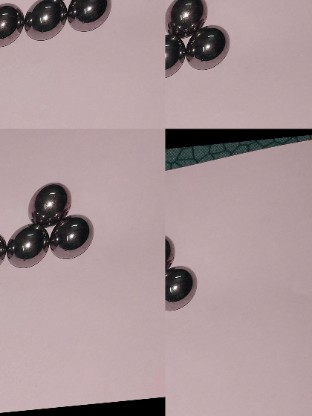ironball: (4, 219, 48, 269), (25, 178, 73, 223), (51, 211, 98, 256), (64, 0, 116, 38), (188, 25, 229, 73), (26, 0, 69, 45), (162, 262, 199, 314), (160, 0, 209, 33), (162, 30, 188, 81), (0, 0, 24, 46), (164, 229, 177, 265)
